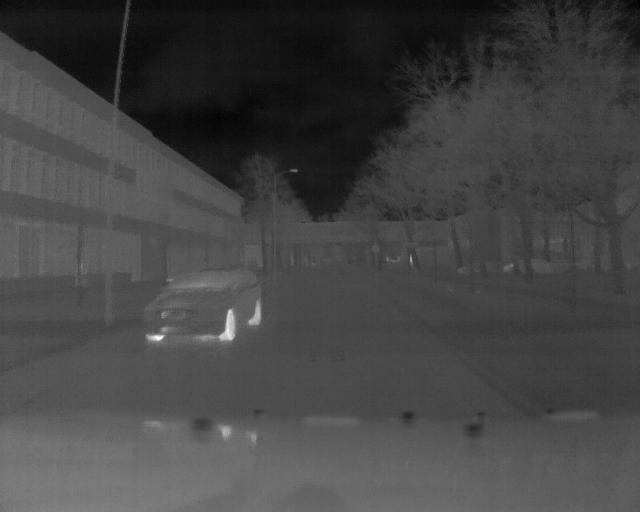car: (141, 267, 268, 346)
